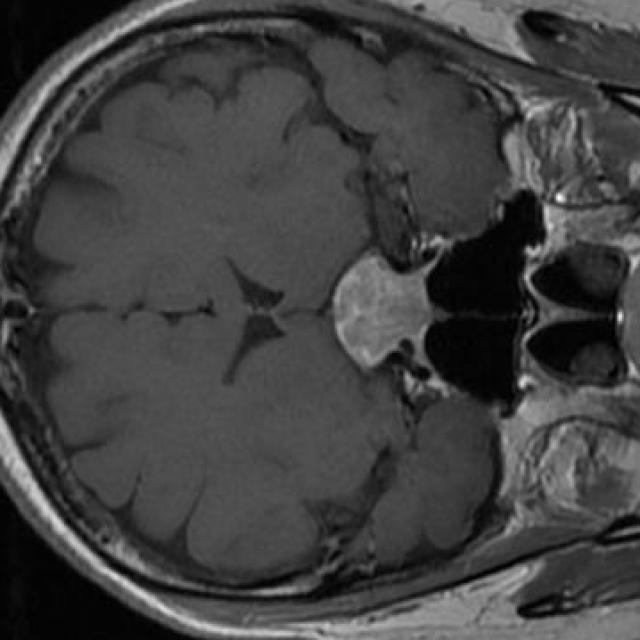pituitary: (332, 255, 433, 371)
